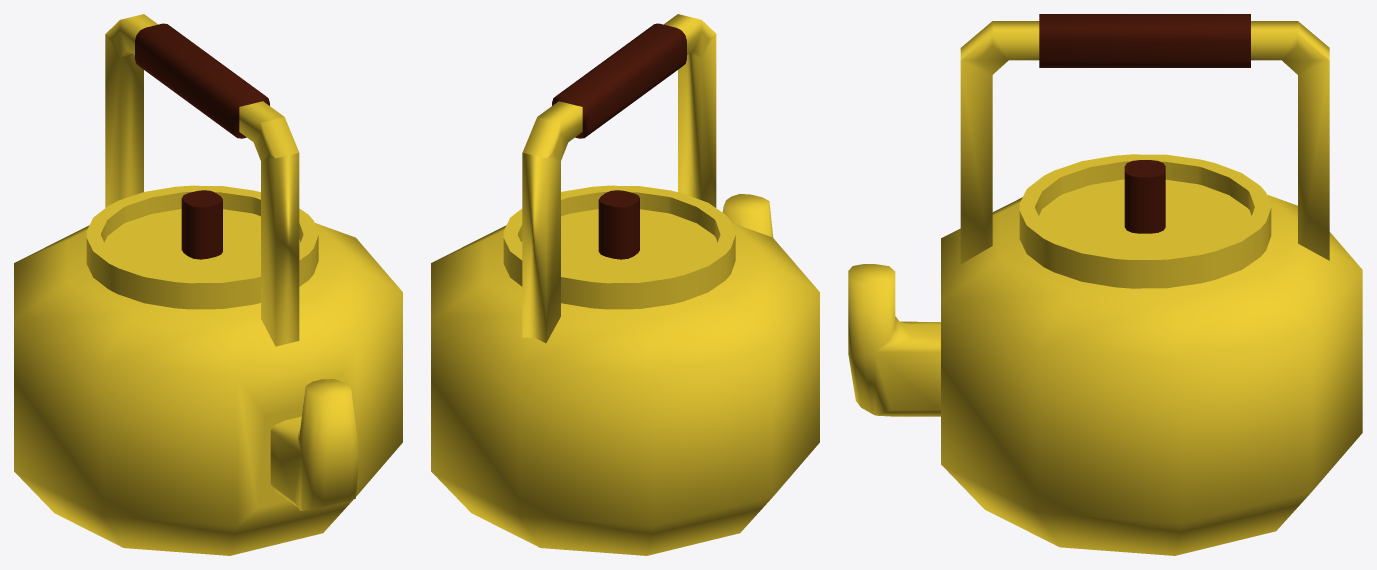
File: yellPot_smooth.fbx
3 views of the same model, side by side, from view 1: azimuth 30°, elevation 25°; view 2: azimuth 150°, elevation 25°; view 3: azimuth 270°, elevation 25° (orthographic). The views are drawn at different scales.
Parts seen in each view (by area): view 1: potBody, potHand; view 2: potBody, potHand; view 3: potBody, potHand.
Boxes of the visible parts, box(x1,y1,x2,y2) form: potBody: box(14, 185, 402, 555); potHand: box(105, 14, 299, 346); potBody: box(431, 185, 819, 555); potHand: box(522, 14, 716, 342); potBody: box(848, 154, 1362, 555); potHand: box(960, 14, 1329, 263).
Bounding box in the file's own units: 197 × 236 × 237.
